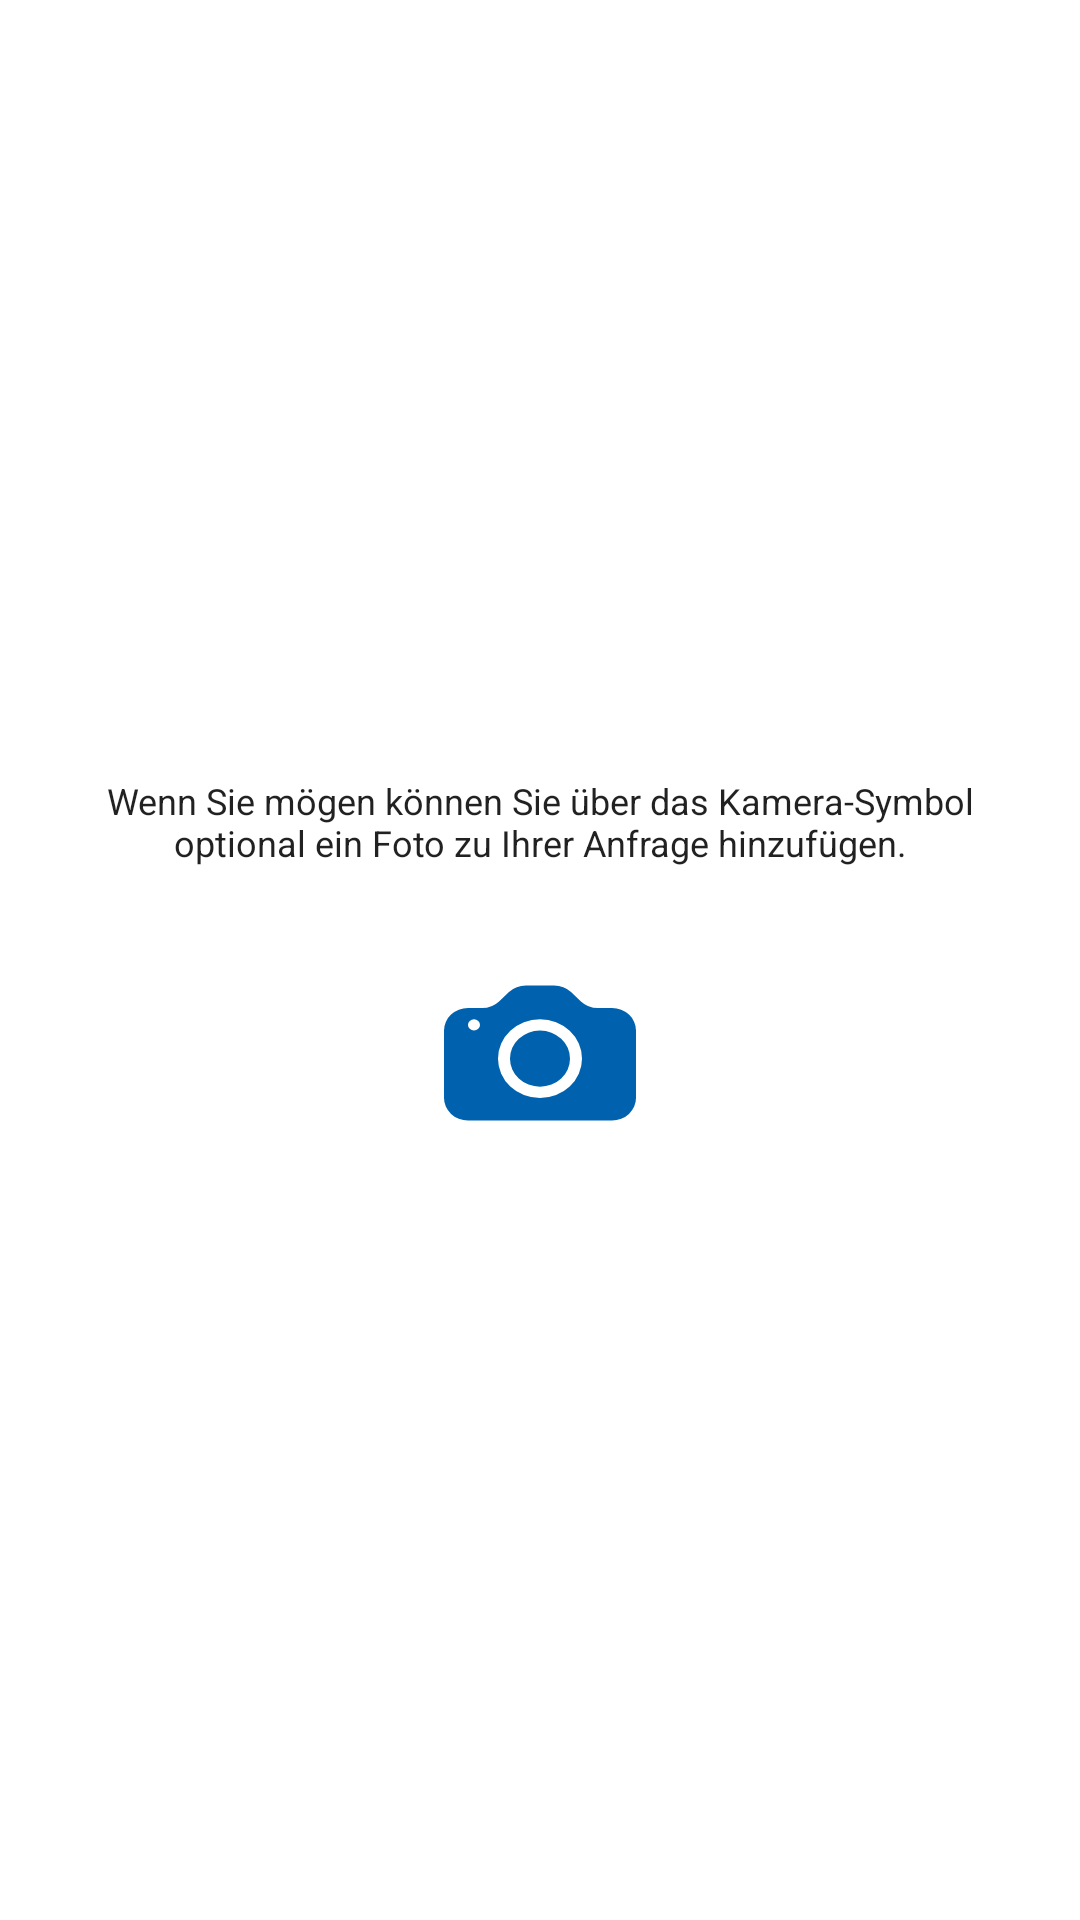

Point at icon controls on the screen. Image size 1080w x 1920h, points as (x=x, y=y).
camera: (x=540, y=1053)
